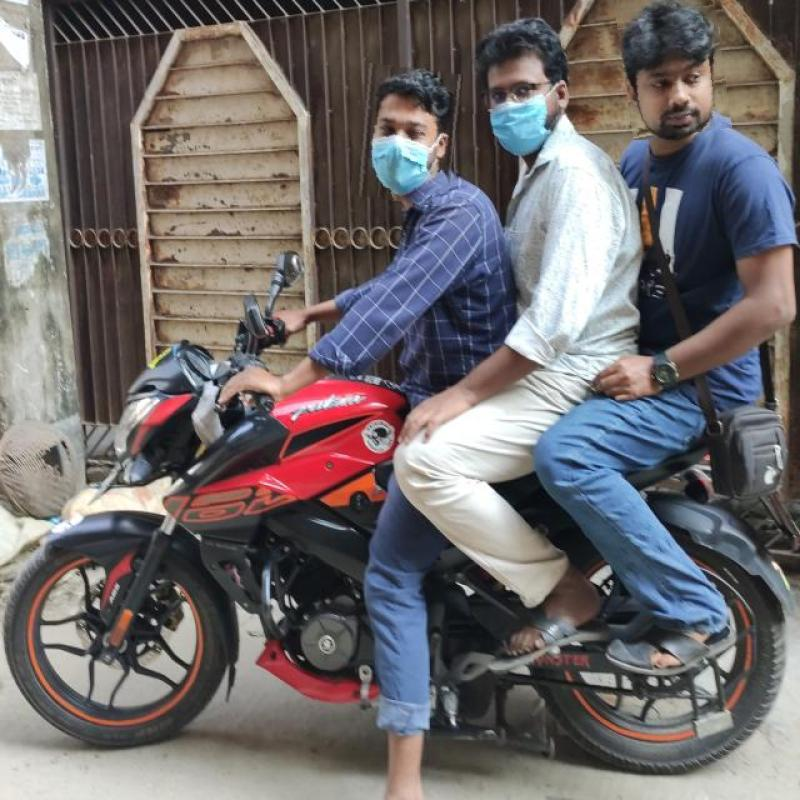nohelmet: (619, 0, 728, 137), (355, 66, 460, 204), (472, 24, 582, 148)
